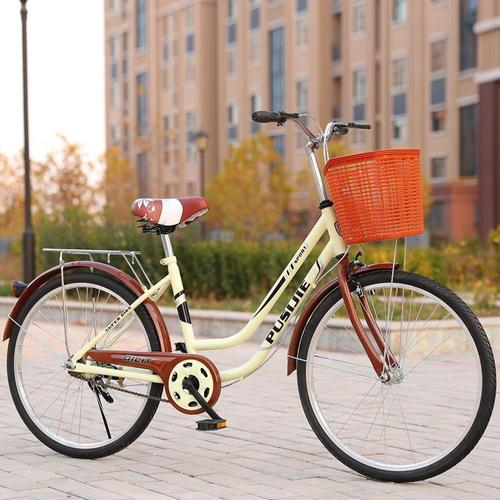单车: (4, 97, 500, 487)
